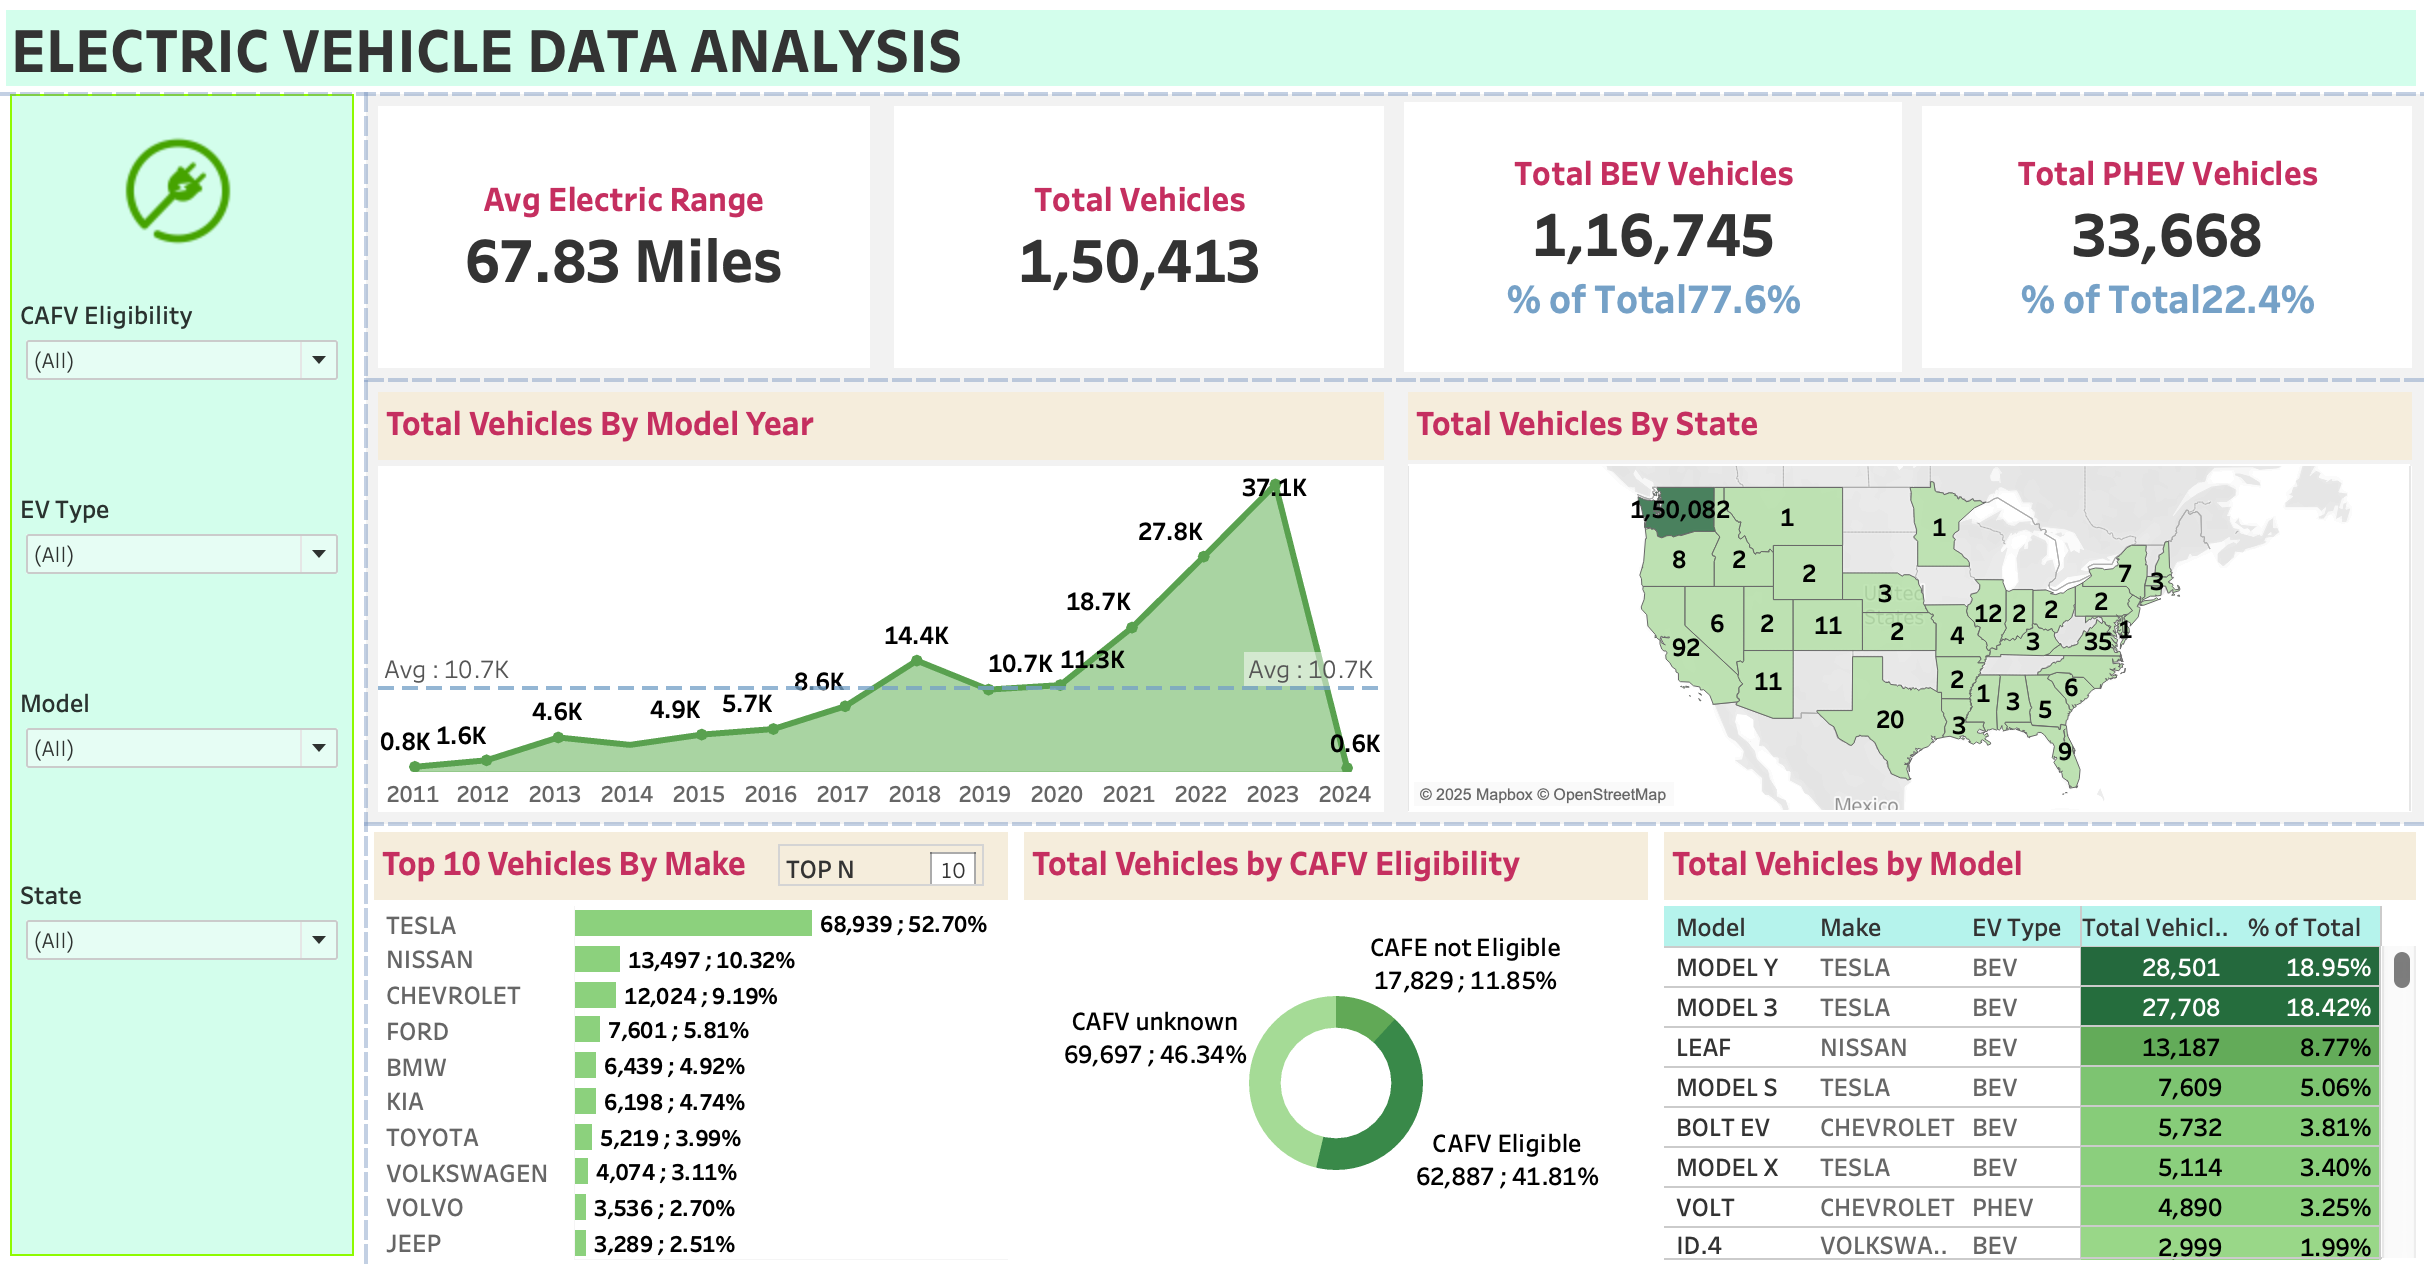

This screenshot's page, from the dashboard's own definition file:
{"tool":"tableau","page":{"name":"Dashboard 1","canvas":[1000,1000],"units":"permille","ordinal":0},"visuals":[{"type":"title","box":[6.5,12.3,987,70.9]},{"type":"worksheet","title":"Avg Electric Range","mark":"Automatic","box":[156.2,83.2,209.9,220.3]},{"type":"worksheet","title":"Total Vehicles","mark":"Automatic","box":[366.2,83.2,209.1,220.3]},{"type":"worksheet","title":"Total BEV Vehicles","mark":"Automatic","box":[575.3,83.2,209.1,220.3]},{"type":"worksheet","title":"Total PHEV Vehicles","mark":"Automatic","box":[784.4,83.2,209.1,220.3]},{"type":"image","param":"Image/vecteezy_electric-plug-icon-electrical-plug-with-lighting-symbol_51719546.","box":[12.2,84.8,138.3,149.5]},{"type":"filter","title":"Total Vehicles By Model Year","param":"[federated.13t7low1qv4axq14pt8e70mwzog4].[none:Clean Alternative Fuel Vehicle (C","box":[12.2,234.2,138.3,149.5]},{"type":"worksheet","title":"Total Vehicles By Model Year","mark":"Area","rows":["Calculation_6018005412230131712","Calculation_6018005412230131712"],"cols":["Model Year"],"box":[156.2,303.5,419,342.1]},{"type":"worksheet","title":"Total Vehicles By State","mark":"Multipolygon","box":[575.2,303.5,418.3,342.1]},{"type":"filter","title":"Total Vehicles By Model Year","param":"[federated.13t7low1qv4axq14pt8e70mwzog4].[none:Electric Vehicle Type:nk]","box":[12.2,383.7,138.3,149.5]},{"type":"filter","title":"Total Vehicles By Model Year","param":"[federated.13t7low1qv4axq14pt8e70mwzog4].[none:Model:nk]","box":[12.2,533.1,138.3,147.9]},{"type":"worksheet","title":"Top 10 Vehicles By Make","mark":"Automatic","rows":["Make"],"cols":["Calculation_6018005412230131712"],"box":[156.2,645.6,264.4,342.1]},{"type":"worksheet","title":"Total Vehicles by CAFV Eligibility","mark":"Pie","rows":["Calculation_6094074024887427073","Calculation_6094074024887427073"],"box":[420.7,645.6,260.4,342.1]},{"type":"worksheet","title":"Total Vehicles by Model","mark":"Square","rows":["Model","Make","Electric Vehicle Type"],"box":[681,645.6,312.4,342.1]},{"type":"parameter","param":"[Parameters].[Parameter 1]","box":[323.8,661,83.8,32.4]},{"type":"filter","title":"Total Vehicles By Model Year","param":"[federated.13t7low1qv4axq14pt8e70mwzog4].[none:State:nk]","box":[12.2,681.1,138.3,147.9]}]}

Visuals, with their boxes on the dashboard's canvas, which has no fixed pixel size, in thousandths of its width and height (x1, y1, x2, y2). These are canvas units, not pixel positions in the 2424x1272 screenshot, which may show the page scaled, cropped or inside an application window:
title: [x1=6, y1=12, x2=994, y2=83]
"Avg Electric Range" worksheet: [x1=156, y1=83, x2=366, y2=304]
"Total Vehicles" worksheet: [x1=366, y1=83, x2=575, y2=304]
"Total BEV Vehicles" worksheet: [x1=575, y1=83, x2=784, y2=304]
"Total PHEV Vehicles" worksheet: [x1=784, y1=83, x2=994, y2=304]
image: [x1=12, y1=85, x2=150, y2=234]
"Total Vehicles By Model Year" filter: [x1=12, y1=234, x2=150, y2=384]
"Total Vehicles By Model Year" worksheet (Area marks): [x1=156, y1=304, x2=575, y2=646]
"Total Vehicles By State" worksheet (Multipolygon marks): [x1=575, y1=304, x2=994, y2=646]
"Total Vehicles By Model Year" filter: [x1=12, y1=384, x2=150, y2=533]
"Total Vehicles By Model Year" filter: [x1=12, y1=533, x2=150, y2=681]
"Top 10 Vehicles By Make" worksheet: [x1=156, y1=646, x2=421, y2=988]
"Total Vehicles by CAFV Eligibility" worksheet (Pie marks): [x1=421, y1=646, x2=681, y2=988]
"Total Vehicles by Model" worksheet (Square marks): [x1=681, y1=646, x2=993, y2=988]
parameter: [x1=324, y1=661, x2=408, y2=693]
"Total Vehicles By Model Year" filter: [x1=12, y1=681, x2=150, y2=829]
